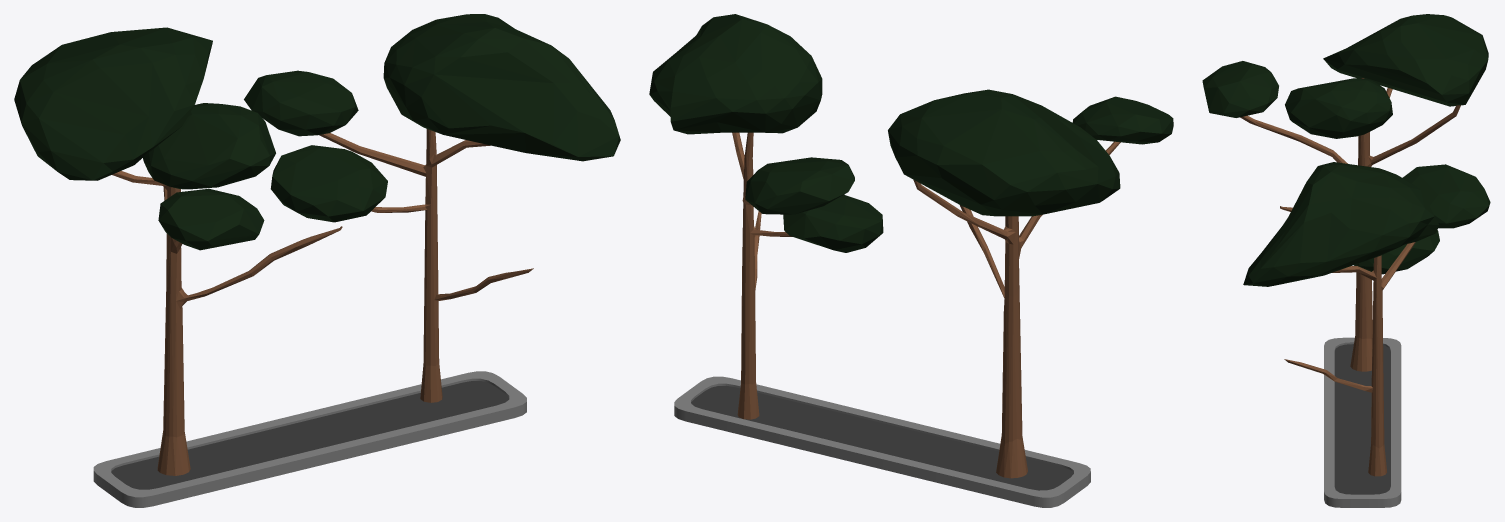
File: SM_streetplatform_trees.fbx
3 views of the same model, side by side, from view 1: azimuth 30°, elevation 25°; view 2: azimuth 150°, elevation 25°; view 3: azimuth 270°, elevation 25° (orthographic). The views are drawn at different scales.
Parts seen in each view (by area): view 1: Box212; view 2: Box212; view 3: Box212.
Boxes of the visible parts, x1=… form: Box212: x1=14, y1=14, x2=620, y2=507; Box212: x1=649, y1=14, x2=1173, y2=507; Box212: x1=1202, y1=14, x2=1490, y2=507.
Bounding box in the file's own units: 242 × 146 × 191.
